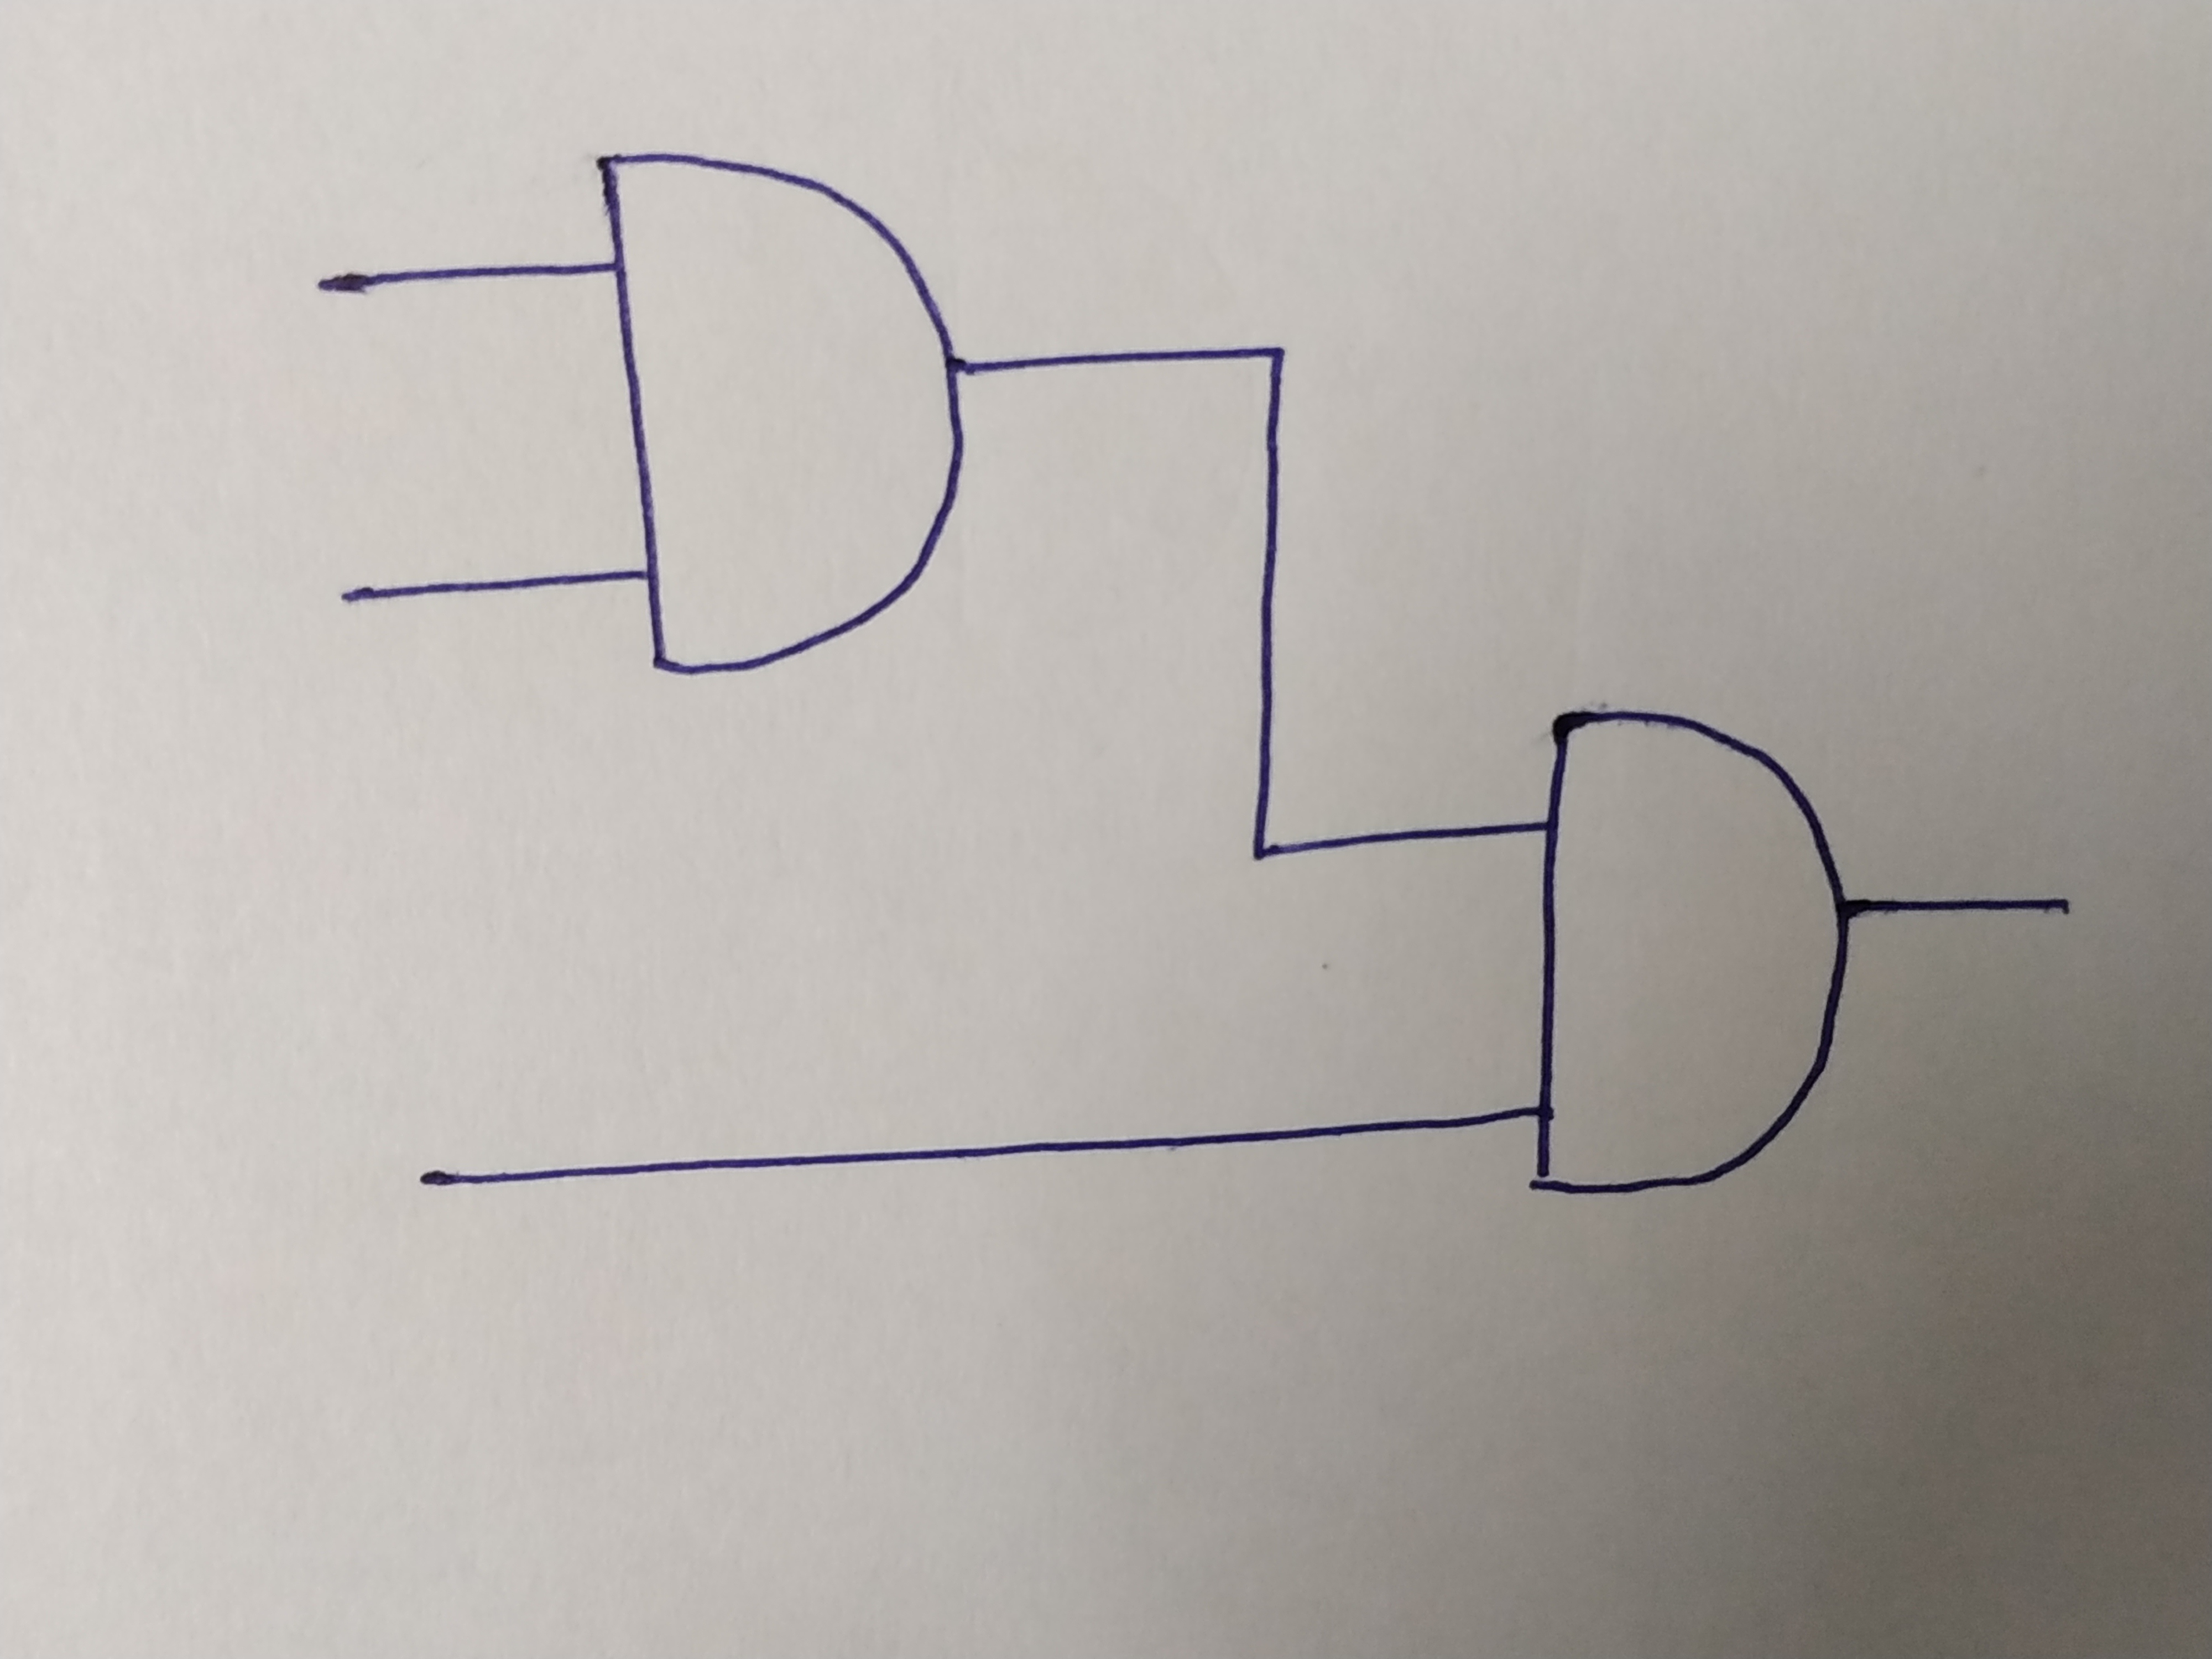and: (599, 150, 960, 662), (1533, 718, 1839, 1201)
